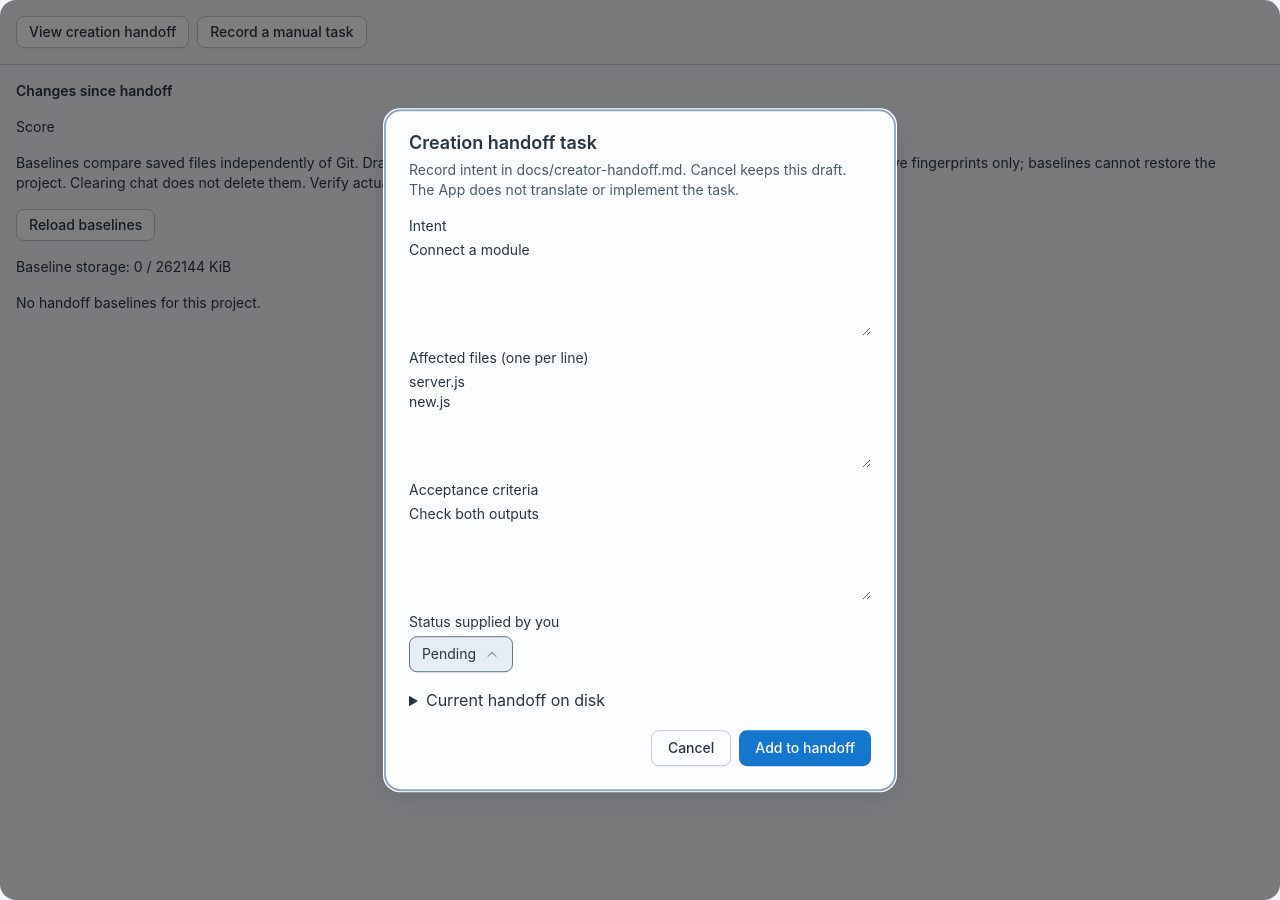
Test: shows a newly confirmed baseline while the comparison view remains open
Check: the text "No handoff baselines for this project." is shown, box [16,294,261,311]
Click the button "Add to handoff": {"x": 805, "y": 748} [739,730,871,766]
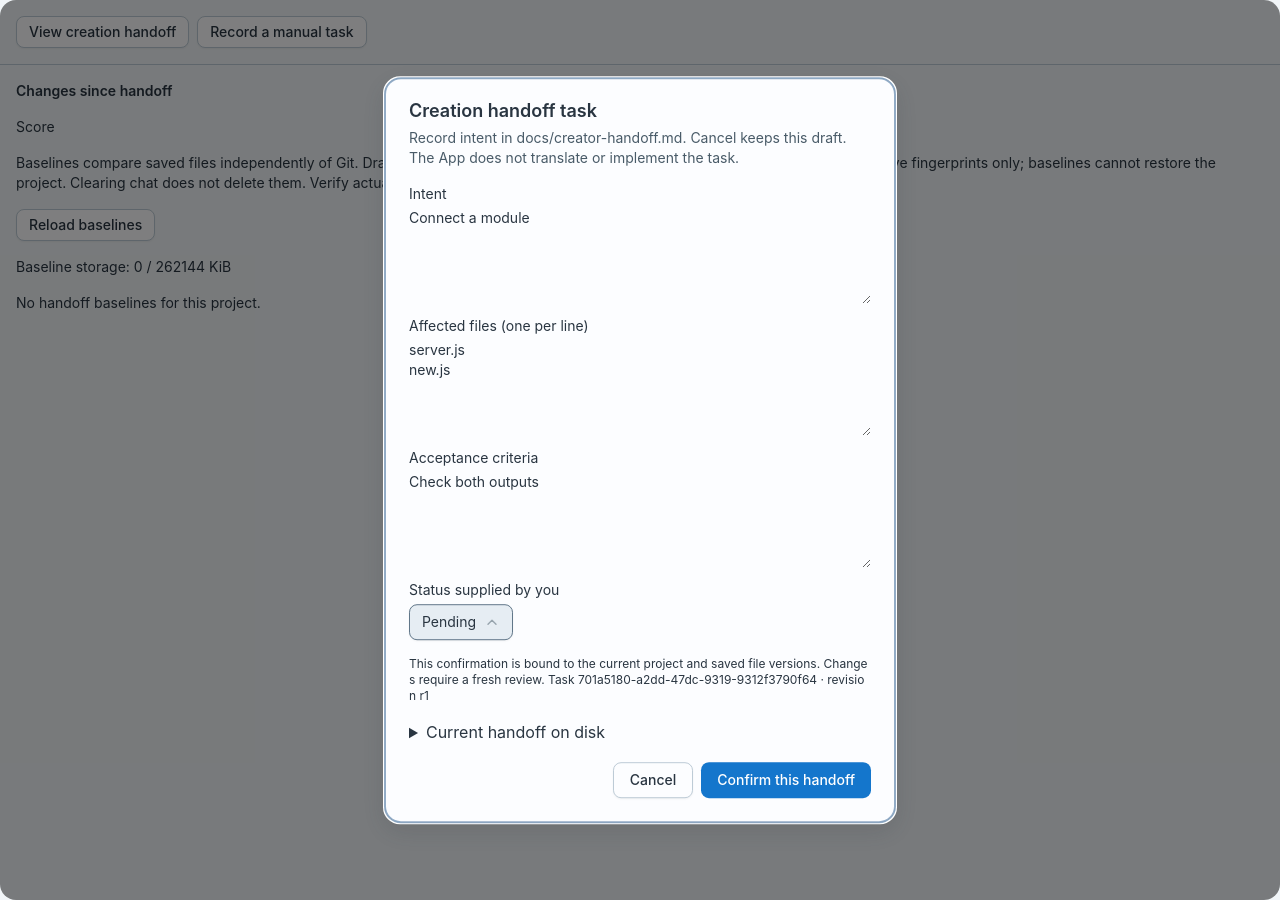
Click the button "Confirm this handoff": {"x": 786, "y": 780} [701,762,871,798]
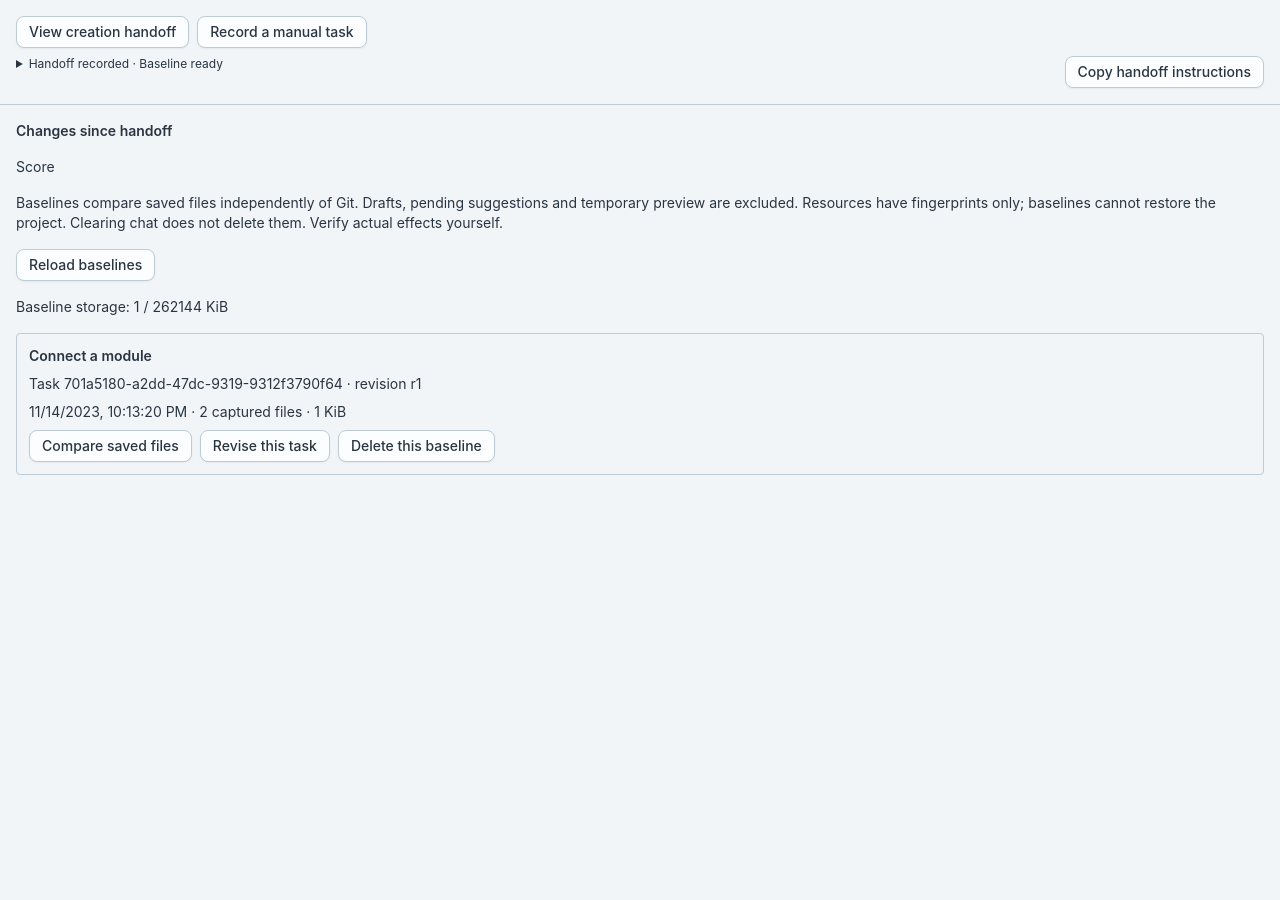
Check: the heading "Connect a module" is shown, box [29,347,152,364]
